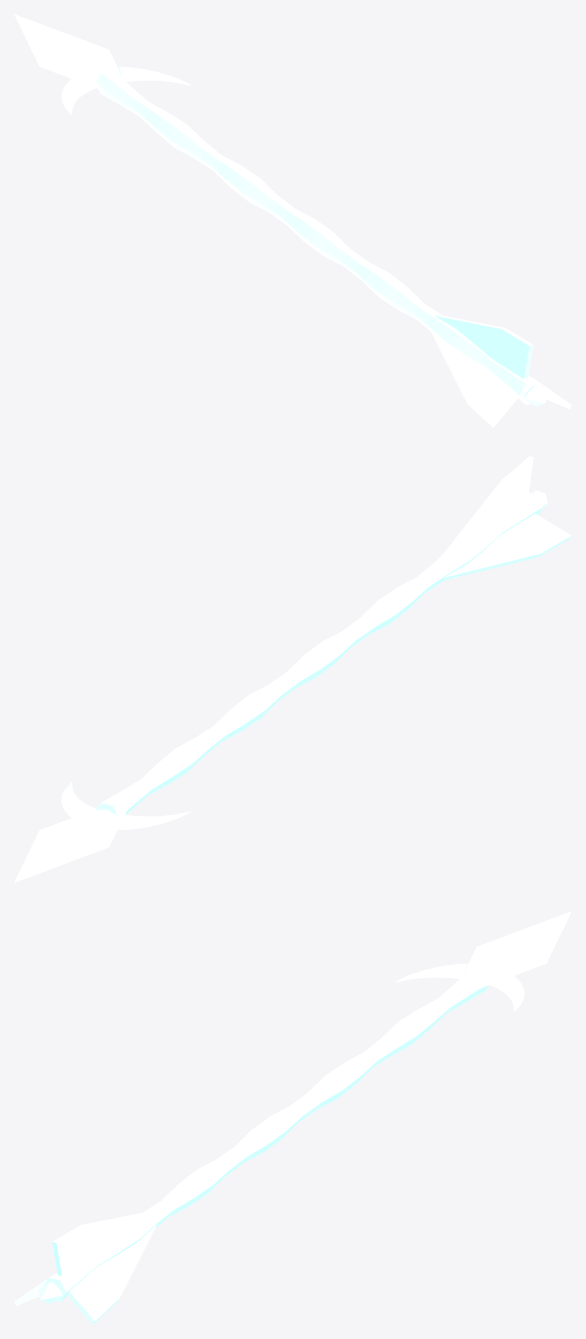
Rendered from LunarArrow.glb.
3 views of the same model, one above another, from view 1: azimuth 30°, elevation 25°; view 2: azimuth 150°, elevation 25°; view 3: azimuth 330°, elevation 25° (orthographic).
Visible parts, largest first — view 1: LunarArrow; view 2: LunarArrow; view 3: LunarArrow.
Part boxes in pixels (x1,y1,x2,y2): LunarArrow: (14,14,571,427); LunarArrow: (14,456,571,882); LunarArrow: (14,911,571,1324).
Bounding box in the file's own units: 0.3438 × 0.2002 × 2.64.
